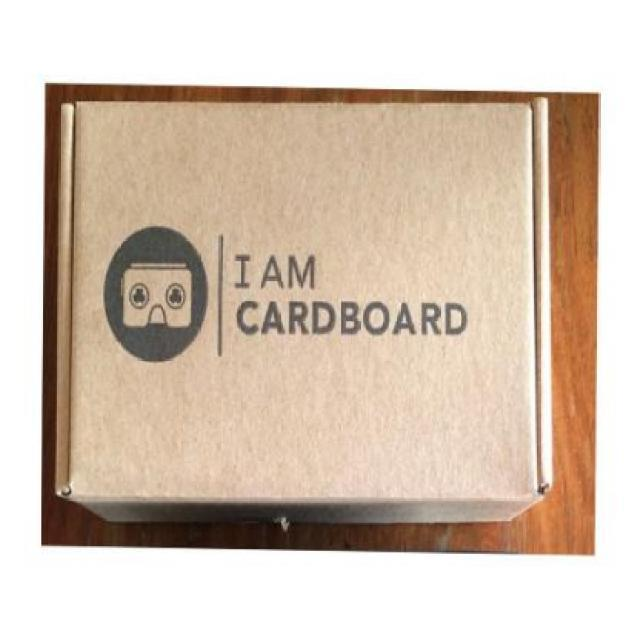box: (55, 95, 553, 530)
